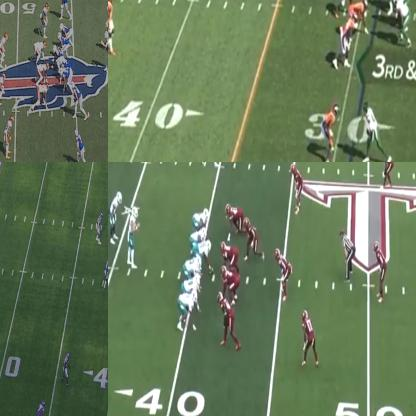CENTER: (197, 240, 213, 277), (50, 49, 62, 71)
DB: (321, 105, 341, 159), (302, 305, 319, 365), (374, 240, 388, 300), (108, 0, 115, 53), (381, 162, 397, 185), (5, 118, 14, 158), (62, 351, 71, 385), (37, 401, 48, 415)
LB: (276, 251, 291, 300), (291, 166, 304, 214), (341, 14, 353, 64), (244, 218, 260, 254), (94, 210, 103, 243), (0, 34, 7, 68), (0, 71, 7, 104), (104, 257, 107, 289)
QB: (129, 205, 140, 270), (104, 36, 107, 73)
SKILL: (366, 101, 382, 152), (109, 191, 122, 241), (73, 84, 86, 116), (75, 129, 86, 161), (58, 0, 70, 19), (341, 0, 356, 11)
